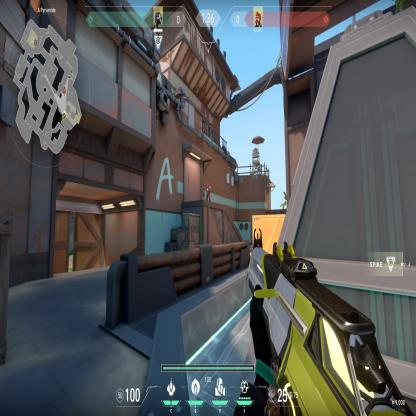enemy: (206, 182, 211, 203)
